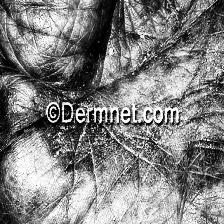Non-Cancerous Skin Condition: (0, 101, 224, 224)
